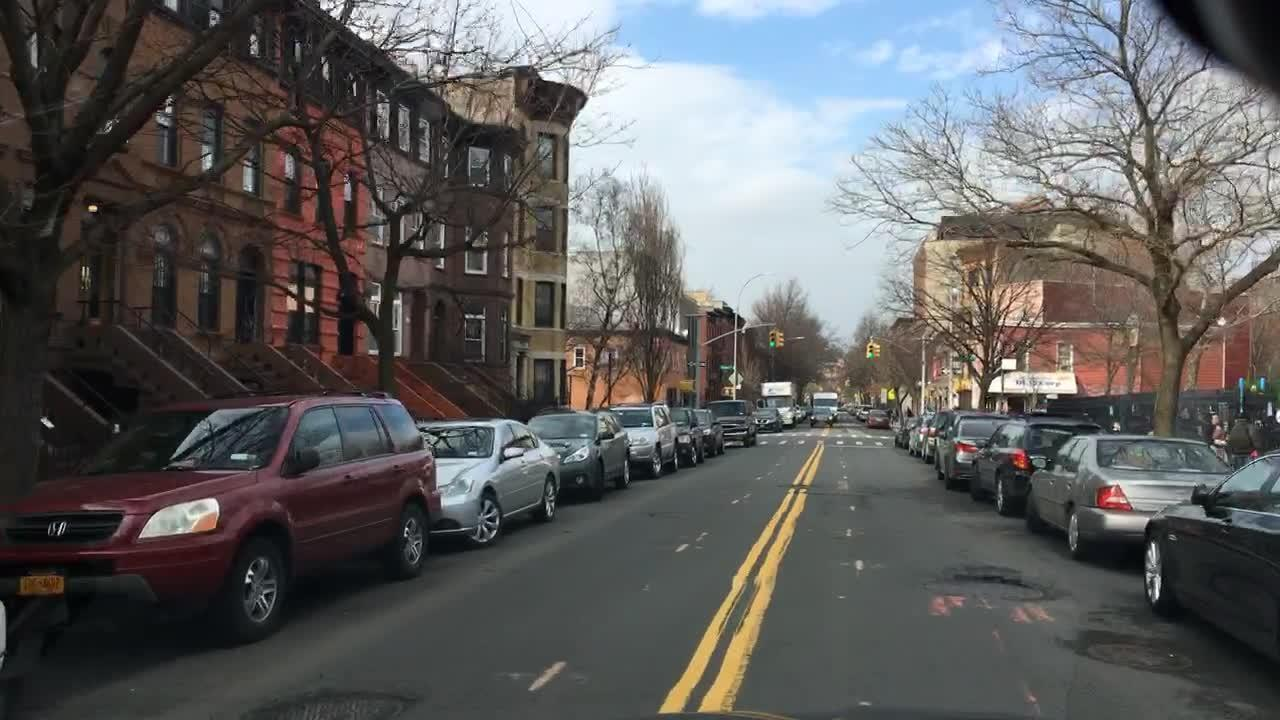Honda: (37, 514, 75, 547)
